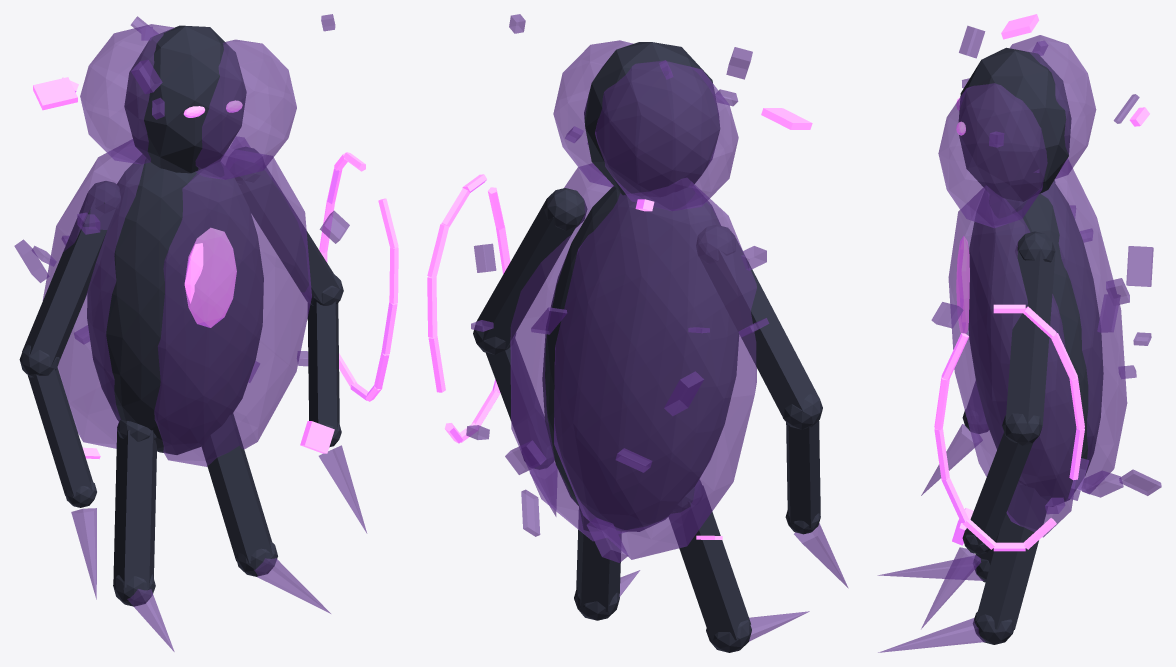
The model's file is 04_void_anomaly.glb.
3 renders of one model, left to right at view 1: azimuth 30°, elevation 25°; view 2: azimuth 150°, elevation 25°; view 3: azimuth 270°, elevation 25°, orthographic. The views are drawn at different scales.
Parts seen in each view (by area): view 1: phase_shift_ghost_torso_1, void_anomaly_core_torso, void_anomaly_shifting_head, phase_shift_ghost_torso_0, phase_shift_ghost_head_1, void_upper_arm_phase_-1, phase_shift_ghost_head_0, void_leg_phase_-1, void_upper_arm_phase_1, void_leg_phase_1, void_forearm_phase_-1, void_chest_reality_gap (+10 smaller); view 2: phase_shift_ghost_torso_0, void_anomaly_core_torso, void_anomaly_shifting_head, phase_shift_ghost_head_0, phase_shift_ghost_torso_1, void_upper_arm_phase_-1, void_upper_arm_phase_1, void_leg_phase_-1, phase_shift_ghost_head_1, void_leg_phase_1, void_forearm_phase_-1, void_forearm_phase_1 (+11 smaller); view 3: void_anomaly_core_torso, phase_shift_ghost_torso_1, void_anomaly_shifting_head, phase_shift_ghost_torso_0, phase_shift_ghost_head_1, void_upper_arm_phase_1, void_leg_phase_1, phase_shift_ghost_head_0, void_forearm_phase_1, void_tattered_foot_trail_1, void_wisp_finger_1, void_tattered_foot_trail_-1 (+19 smaller).
Boxes of the visible parts, bbox=[...] form: phase_shift_ghost_torso_1: bbox=[154, 148, 311, 466]; void_anomaly_core_torso: bbox=[87, 154, 263, 454]; void_anomaly_shifting_head: bbox=[124, 25, 246, 173]; phase_shift_ghost_torso_0: bbox=[42, 139, 145, 448]; phase_shift_ghost_head_1: bbox=[195, 39, 296, 179]; void_upper_arm_phase_-1: bbox=[19, 181, 120, 377]; phase_shift_ghost_head_0: bbox=[80, 24, 174, 164]; void_leg_phase_-1: bbox=[113, 419, 156, 606]; void_upper_arm_phase_1: bbox=[230, 147, 343, 305]; void_leg_phase_1: bbox=[202, 413, 277, 576]; void_forearm_phase_-1: bbox=[27, 367, 96, 507]; void_chest_reality_gap: bbox=[184, 228, 236, 327]; phase_shift_ghost_torso_0: bbox=[554, 178, 756, 559]; void_anomaly_core_torso: bbox=[542, 186, 738, 531]; void_anomaly_shifting_head: bbox=[584, 42, 720, 196]; phase_shift_ghost_head_0: bbox=[595, 60, 738, 211]; phase_shift_ghost_torso_1: bbox=[510, 163, 624, 541]; void_upper_arm_phase_-1: bbox=[696, 225, 822, 429]; void_upper_arm_phase_1: bbox=[473, 188, 587, 354]; void_leg_phase_-1: bbox=[668, 480, 751, 652]; phase_shift_ghost_head_1: bbox=[553, 40, 633, 187]; void_leg_phase_1: bbox=[574, 507, 621, 620]; void_forearm_phase_-1: bbox=[785, 420, 820, 534]; void_forearm_phase_1: bbox=[485, 339, 554, 469]; void_anomaly_core_torso: bbox=[968, 181, 1103, 506]; phase_shift_ghost_torso_1: bbox=[948, 186, 1076, 537]; void_anomaly_shifting_head: bbox=[958, 47, 1071, 201]; phase_shift_ghost_torso_0: bbox=[1041, 159, 1127, 494]; phase_shift_ghost_head_1: bbox=[938, 83, 1047, 227]; void_upper_arm_phase_1: bbox=[1002, 231, 1055, 445]; void_leg_phase_1: bbox=[973, 480, 1048, 644]; phase_shift_ghost_head_0: bbox=[1010, 35, 1096, 179]; void_forearm_phase_1: bbox=[962, 432, 1032, 554]; void_tattered_foot_trail_1: bbox=[878, 617, 985, 652]; void_wisp_finger_1: bbox=[921, 547, 981, 629]; void_tattered_foot_trail_-1: bbox=[877, 556, 984, 580].
Bounding box in the file's own units: 1.55 × 2.44 × 1.12.
